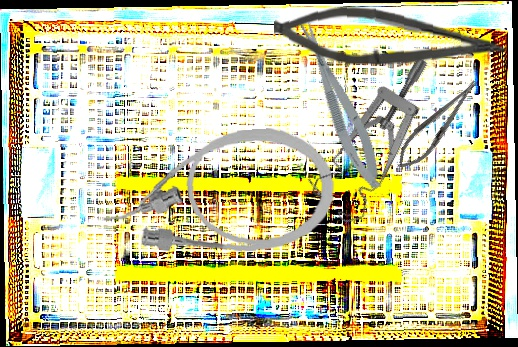Cannula: (97, 123, 339, 262)
Micro Scissor: (291, 11, 390, 195), (273, 3, 506, 71)
Needle Holder: (389, 72, 487, 177)
Speculum: (284, 54, 479, 233)
